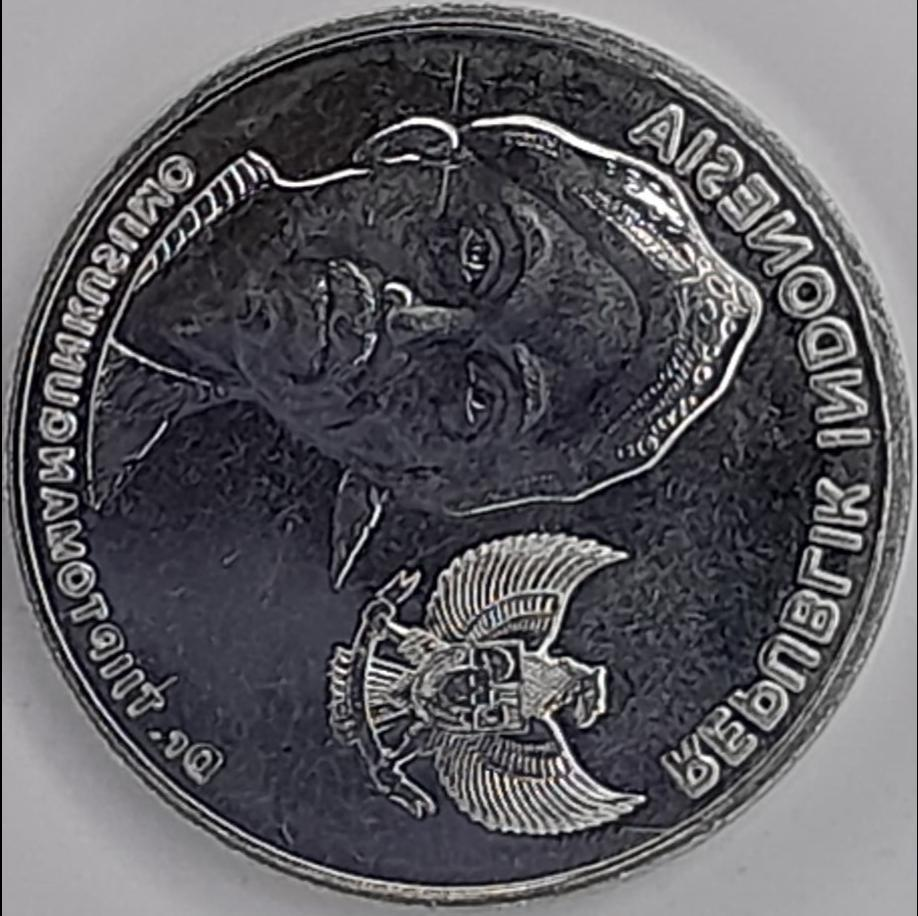coin_200_e2016: (0, 16, 918, 916)
